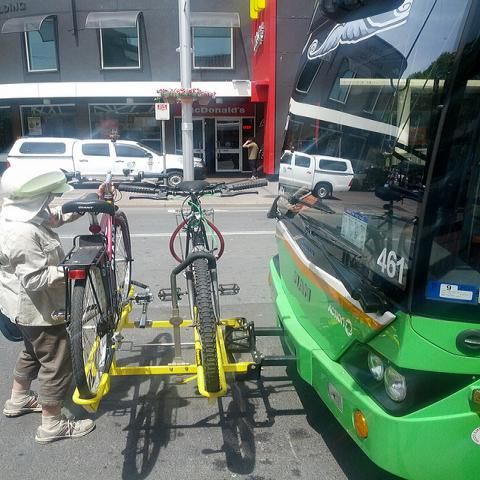bus: (243, 0, 479, 479)
truck: (5, 134, 206, 187)
